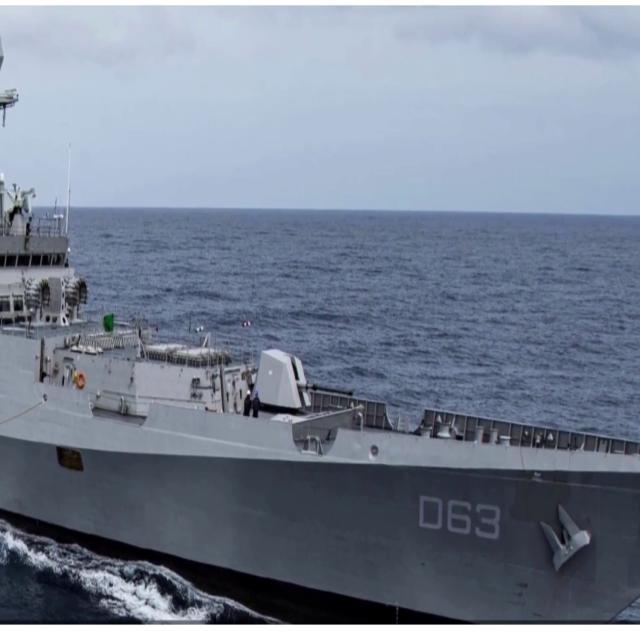OCR: (413, 488, 504, 544)
